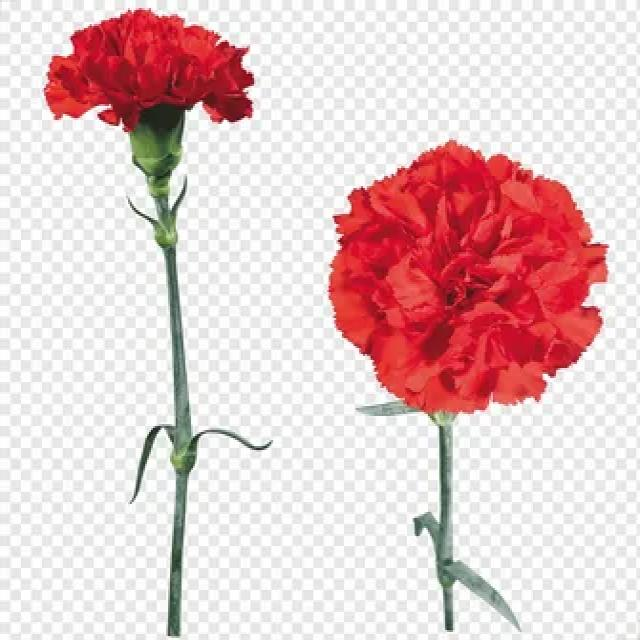carnation: (311, 135, 621, 438), (21, 0, 267, 186)
